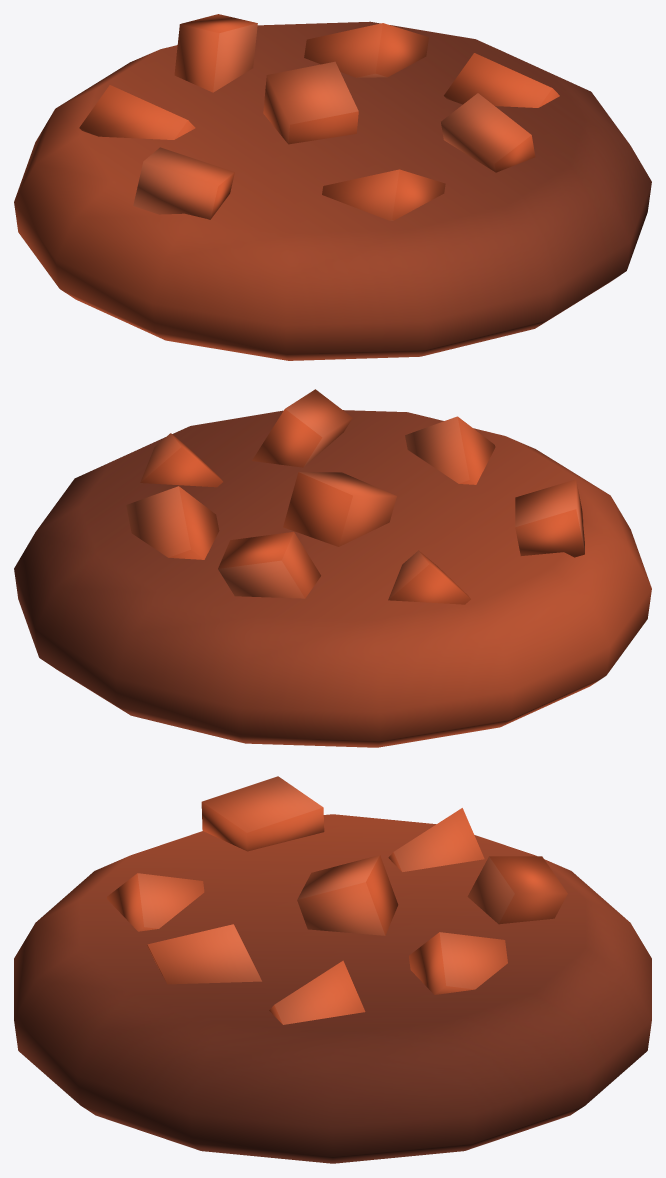
File: cookie_004.fbx
3 renders of one model, top to bottom at view 1: azimuth 30°, elevation 25°; view 2: azimuth 150°, elevation 25°; view 3: azimuth 270°, elevation 25°, orthographic. The views are drawn at different scales.
Visible parts, largest first — view 1: cookie_004; view 2: cookie_004; view 3: cookie_004.
Part boxes in pixels (box(x1,y1,x2,y2)): cookie_004: box(14, 14, 651, 360); cookie_004: box(14, 389, 651, 747); cookie_004: box(14, 776, 651, 1163).
Size of the model in its own units: 6.74 by 6.57 by 1.85.
